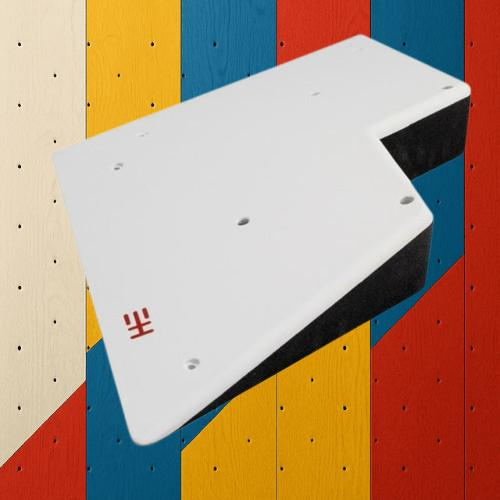Volume: (50, 33, 472, 447)
